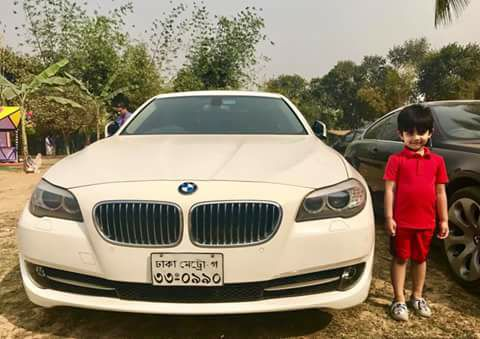registration_plate: (150, 252, 225, 287)
